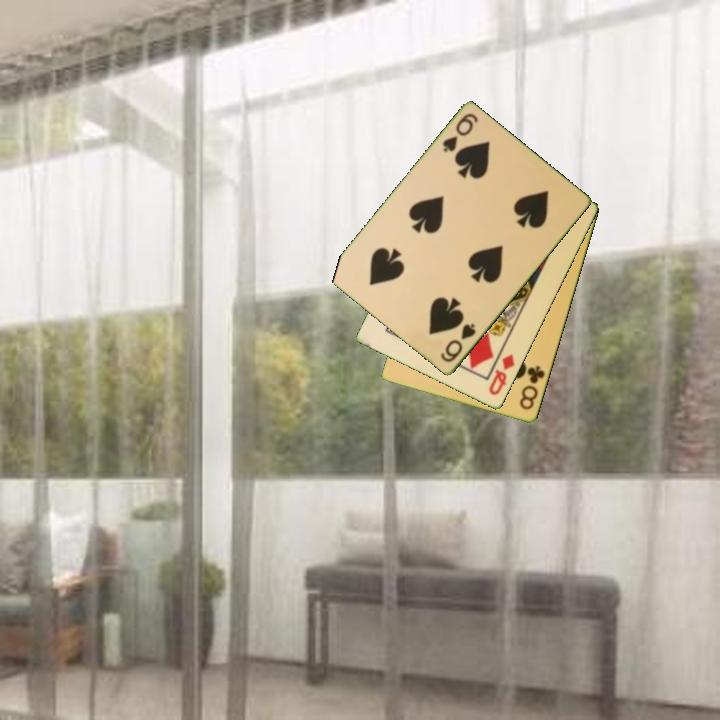6s: (437, 320, 479, 366), (439, 110, 481, 156)
8c: (516, 362, 548, 413)
Qd: (485, 351, 518, 399)
